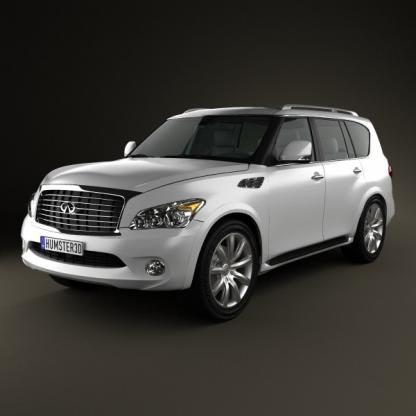car: (19, 102, 397, 326)
